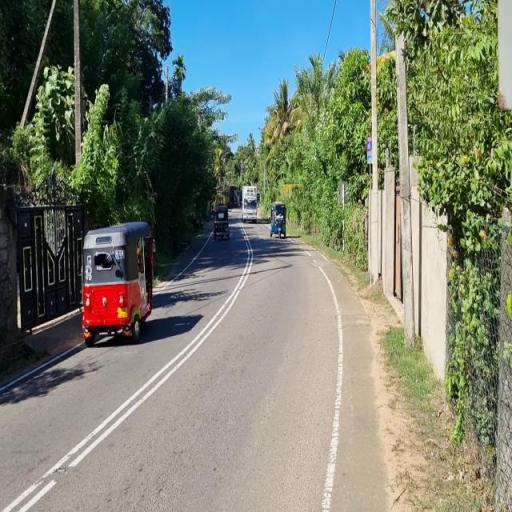double_white_line: (2, 227, 254, 512)
